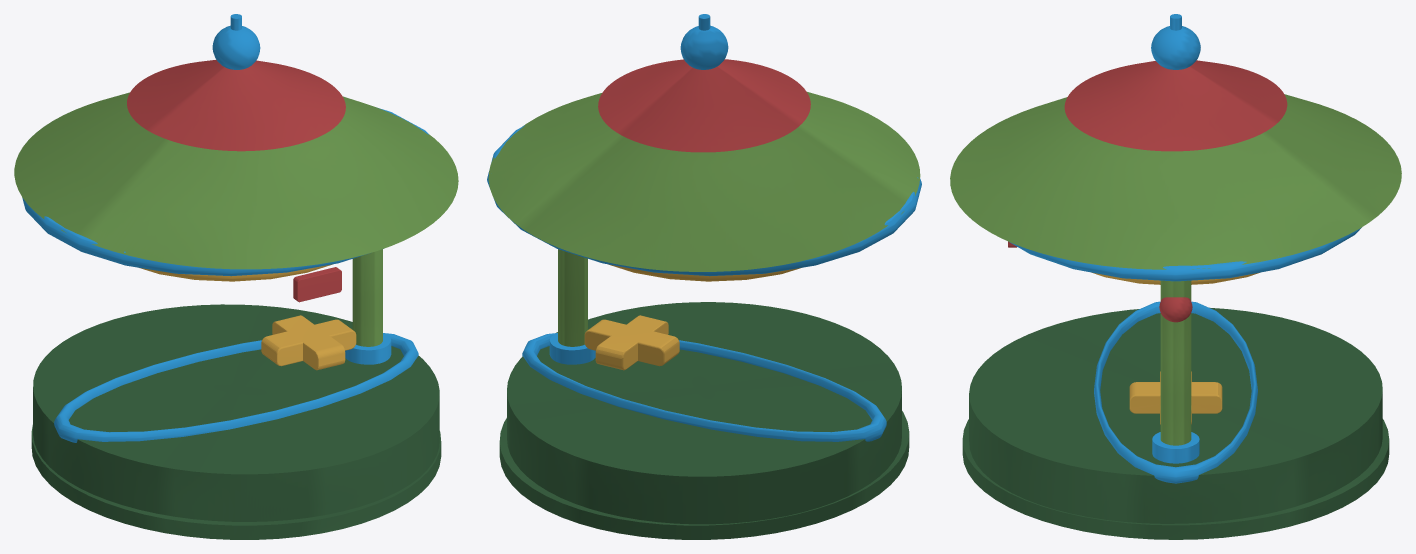
The model's file is 0368_欧洲文明图鉴_阿庇亚大道.glb.
3 renders of one model, left to right at view 1: azimuth 30°, elevation 25°; view 2: azimuth 150°, elevation 25°; view 3: azimuth 270°, elevation 25°, orthographic.
Visible parts, largest first — view 1: card_0368; view 2: card_0368; view 3: card_0368.
Boxes of the visible parts, box(x1,y1,x2,y2) form: card_0368: box(14, 14, 458, 539); card_0368: box(487, 14, 921, 539); card_0368: box(950, 14, 1401, 539).
Bounding box in the file's own units: 0.9187 × 1 × 0.9356.
